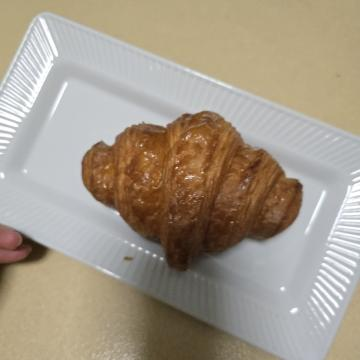croissant: (93, 46, 289, 292)
